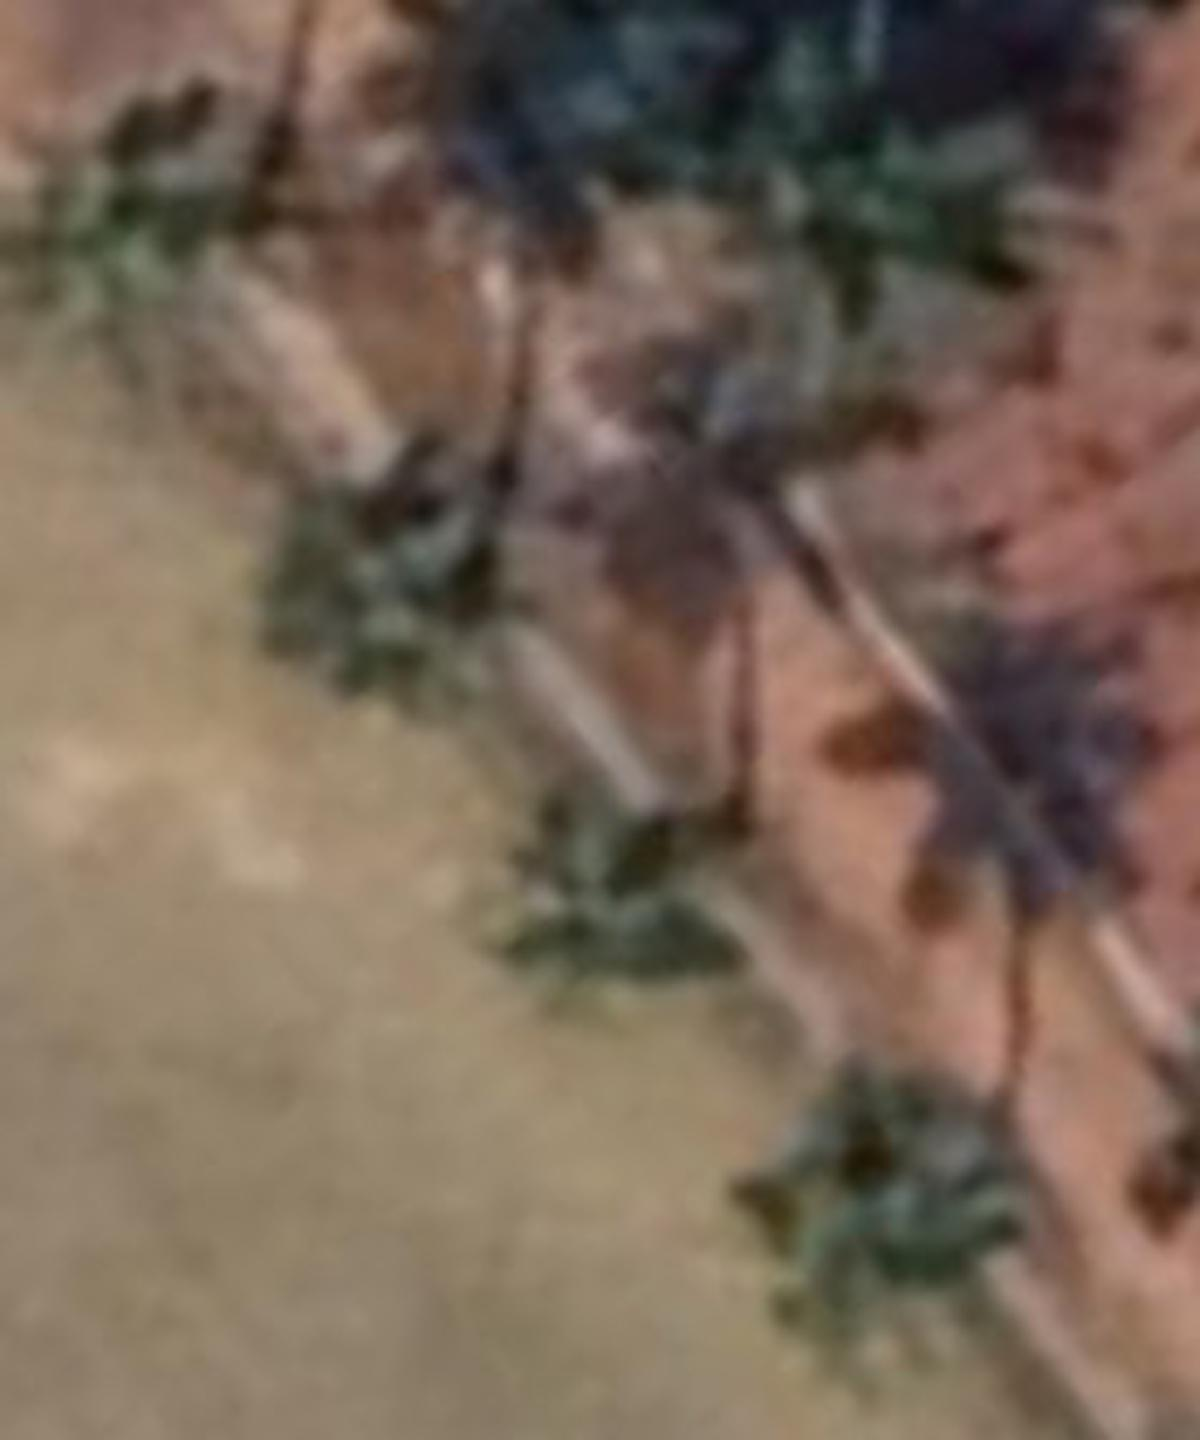coconut: (727, 1067, 1021, 1354), (4, 124, 264, 398), (252, 450, 501, 728), (467, 785, 745, 1015)
